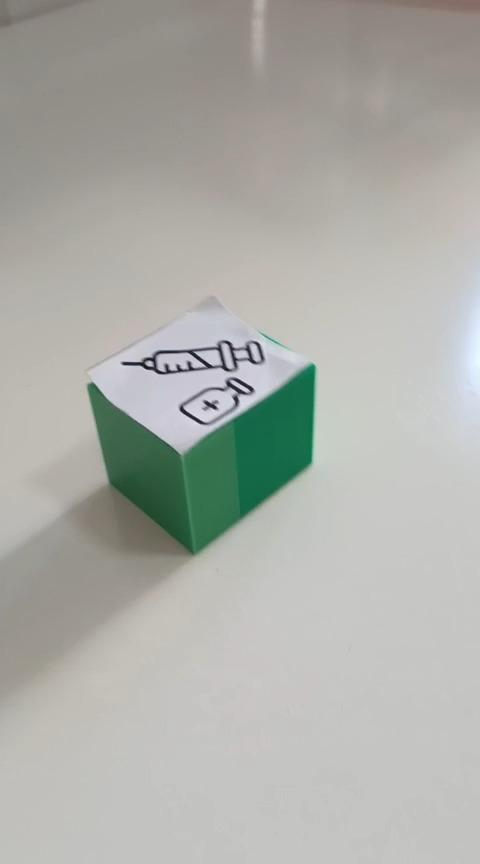antiseptic cream: (84, 293, 317, 555)
